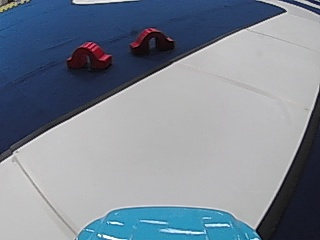bridge: (67, 38, 113, 71), (129, 23, 174, 56)
